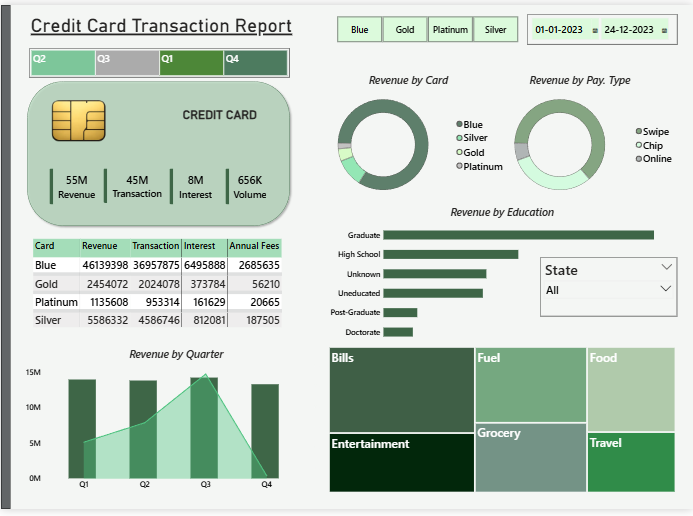

The dashboard page shown, as its layout file describes it:
{"tool":"powerbi","page":{"name":"Credi Card Transaction Report","canvas":[1920,1400],"ordinal":0},"visuals":[{"type":"textbox","box":[77.8,22.2,777.8,103.7],"z":0},{"type":"shape","box":[0,0,26.5,1400],"z":1000},{"type":"lineClusteredColumnComboChart","title":" Revenue by Quarter","fields":{"Category":["credit_card.quarter"],"Y":["Sum(credit_card.Revenue)"],"Y2":["Sum(credit_card.Total_Trans_Vol)"]},"box":[64.5,948.4,845.2,409.7],"z":2000},{"type":"treemap","title":"Revenue by Exp. Type","fields":{"Group":["credit_card.Exp_Type"],"Values":["Sum(credit_card.Revenue)"]},"box":[909.7,948.4,967.7,409.7],"z":3000},{"type":"shape","box":[65,202.5,747.5,420],"z":4000},{"type":"cardVisual","fields":{"Data":["Sum(credit_card.Revenue)"]},"box":[106.5,425.8,209.7,158.1],"z":5000},{"type":"cardVisual","fields":{"Data":["Sum(credit_card.Total_Trans_Amt)"]},"box":[254.8,425.8,245.2,154.8],"z":6000},{"type":"cardVisual","fields":{"Data":["Sum(credit_card.Interest_Earned)"]},"box":[438.7,425.8,203.2,158.1],"z":7000},{"type":"cardVisual","fields":{"Data":["Sum(credit_card.Total_Trans_Vol)"]},"box":[593.5,425.8,193.5,158.1],"z":8000},{"type":"image","box":[123.7,226.3,181.6,194.7],"z":9000},{"type":"textbox","box":[500,281.8,230.3,81.8],"z":10000},{"type":"slicer","fields":{"Values":["credit_card.Week_Start_Date"]},"box":[1460.6,24.2,418.2,84.8],"z":11000},{"type":"treemap","fields":{"Group":["credit_card.quarter"],"Values":["CountNonNull(credit_card.Client_Num)"]},"box":[76.5,120.6,723.5,82.4],"z":12000},{"type":"donutChart","title":"Revenue by Card","fields":{"Category":["credit_card.Card_Category"],"Y":["Sum(credit_card.Revenue)"]},"box":[854.8,187.1,551.6,364.5],"z":13000},{"type":"clusteredBarChart","title":"Revenue by Education","fields":{"Category":["customer.Education_Level"],"Y":["Sum(credit_card.Revenue)"]},"box":[909.7,551.6,967.7,396.8],"z":14000},{"type":"tableEx","fields":{"Values":["credit_card.Card_Category","Sum(credit_card.Revenue)","Sum(credit_card.Total_Trans_Amt)","Sum(credit_card.Interest_Earned)","Sum(credit_card.Annual_Fees)"]},"box":[84.2,644.7,705.3,273.7],"z":15000},{"type":"donutChart","title":"Revenue by Pay. Type","fields":{"Y":["Sum(credit_card.Revenue)"],"Category":["credit_card.Use_Chip"]},"box":[1338.7,187.1,538.7,364.5],"z":16000},{"type":"slicer","fields":{"Values":["customer.state_cd"]},"box":[1496.8,700,380.6,164.5],"z":17000},{"type":"slicer","fields":{"Values":["credit_card.Card_Category"]},"box":[909.1,24.2,551.5,84.8],"z":18000}]}

Visuals, with their boxes in screenshot pixels (x1, y1, x2, y2), scaled from the page's 1920x1400 canvas onto the 693x516 screenshot:
textbox: 28/8/309/46
shape: 0/0/10/515
" Revenue by Quarter" lineClusteredColumnComboChart: 23/350/328/501
"Revenue by Exp. Type" treemap: 328/350/678/501
shape: 23/75/293/229
cardVisual - Sum(credit_card.Revenue): 38/157/114/215
cardVisual - Sum(credit_card.Total_Trans_Amt): 92/157/180/214
cardVisual - Sum(credit_card.Interest_Earned): 158/157/232/215
cardVisual - Sum(credit_card.Total_Trans_Vol): 214/157/284/215
image: 45/83/110/155
textbox: 180/104/264/134
slicer - credit_card.Week_Start_Date: 527/9/678/40
treemap - credit_card.quarter x CountNonNull(credit_card.Client_Num): 28/44/289/75
"Revenue by Card" donutChart: 309/69/508/203
"Revenue by Education" clusteredBarChart: 328/203/678/350
tableEx - credit_card.Card_Category x Sum(credit_card.Revenue): 30/238/285/338
"Revenue by Pay. Type" donutChart: 483/69/678/203
slicer - customer.state_cd: 540/258/678/319
slicer - credit_card.Card_Category: 328/9/527/40
